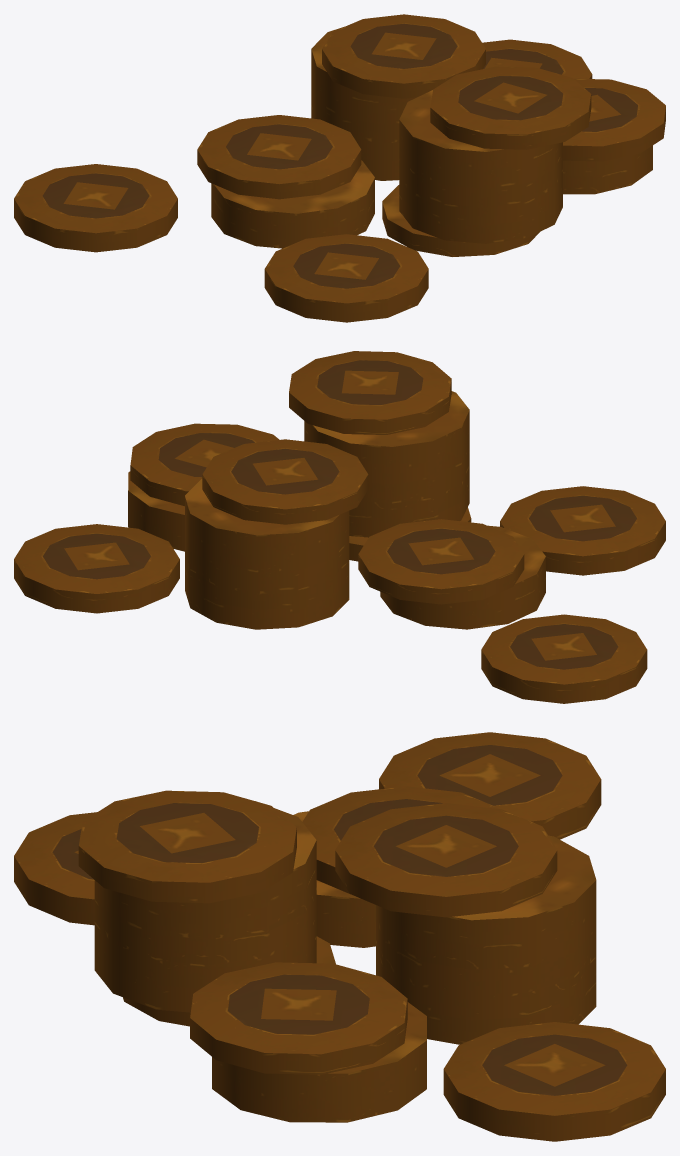
File: Coin_Pile_2.gltf
3 renders of one model, top to bottom at view 1: azimuth 30°, elevation 25°; view 2: azimuth 150°, elevation 25°; view 3: azimuth 270°, elevation 25°, orthographic. The views are drawn at different scales.
Parts seen in each view (by area): view 1: Coin_Pile_2; view 2: Coin_Pile_2; view 3: Coin_Pile_2.
Boxes of the visible parts, left/top/right/bottom form: Coin_Pile_2: left=14, top=14, right=665, bottom=322; Coin_Pile_2: left=14, top=351, right=665, bottom=703; Coin_Pile_2: left=14, top=732, right=665, bottom=1141.
Bounding box in the file's own units: 0.2787 × 0.0584 × 0.2002.
Materials: 1 (1 with a texture image).
